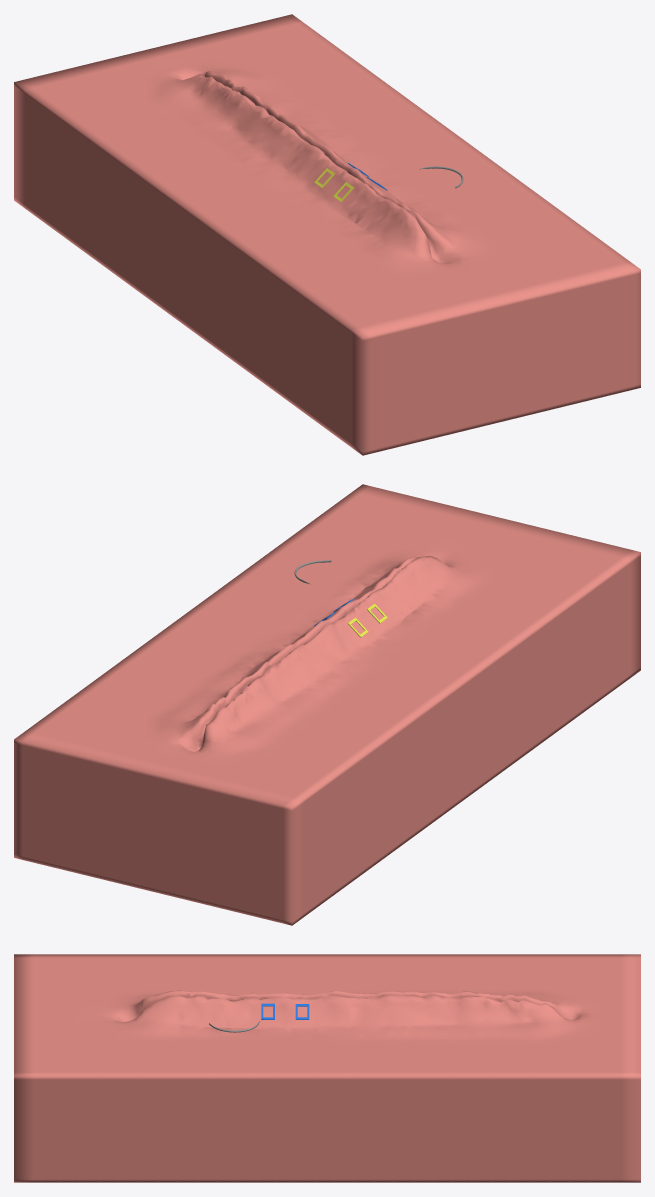
Rendered from Suturing.fbx.
3 views of the same model, one above another, from view 1: azimuth 30°, elevation 25°; view 2: azimuth 150°, elevation 25°; view 3: azimuth 270°, elevation 25° (orthographic). The views are drawn at different scales.
Parts seen in each view (by area): view 1: Tissue; view 2: Tissue; view 3: Tissue.
Part boxes in pixels (bbox=[...]): Tissue: bbox=[14, 14, 640, 455]; Tissue: bbox=[14, 484, 640, 925]; Tissue: bbox=[14, 954, 640, 1182].
Bounding box in the file's own units: 79.7 × 39.34 × 173.
